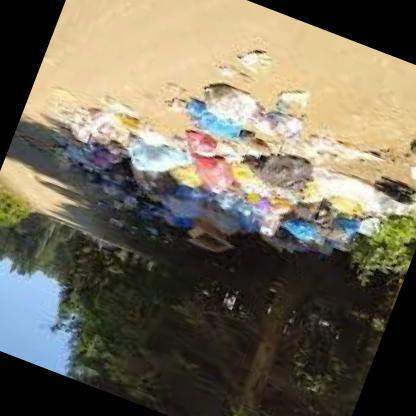Garbage: (96, 60, 388, 270), (70, 108, 219, 219), (198, 138, 324, 258), (102, 115, 220, 240), (230, 83, 315, 230), (178, 71, 302, 163), (313, 148, 415, 233), (248, 175, 360, 250), (382, 115, 415, 189)
